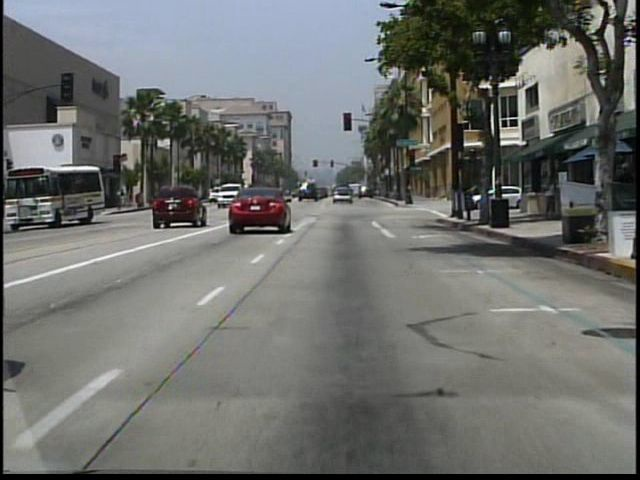person: (540, 170, 558, 220)
